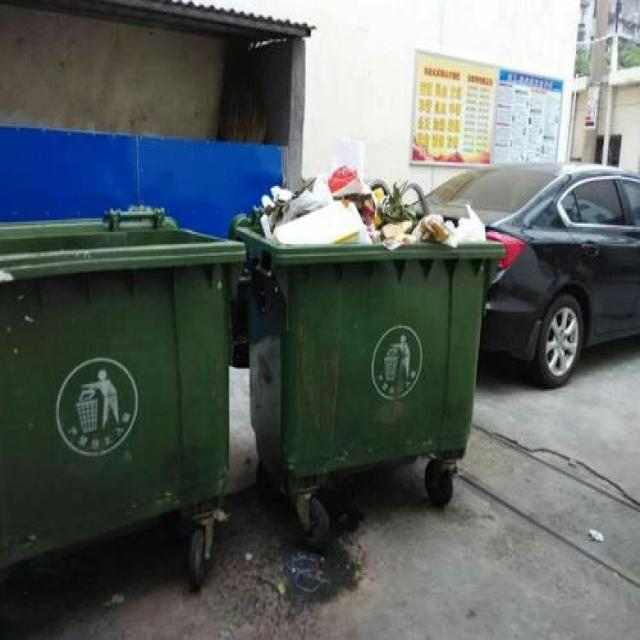garbage_bin: (0, 208, 246, 568)
overflow: (227, 164, 506, 476)
